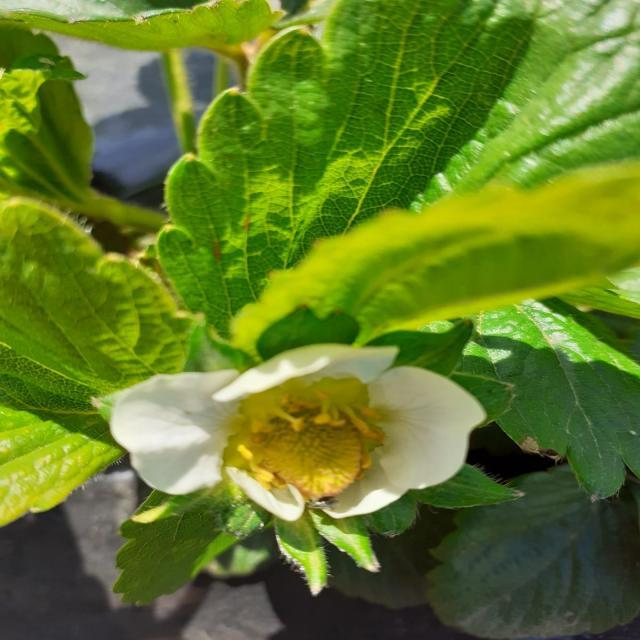flower: (107, 342, 481, 526)
